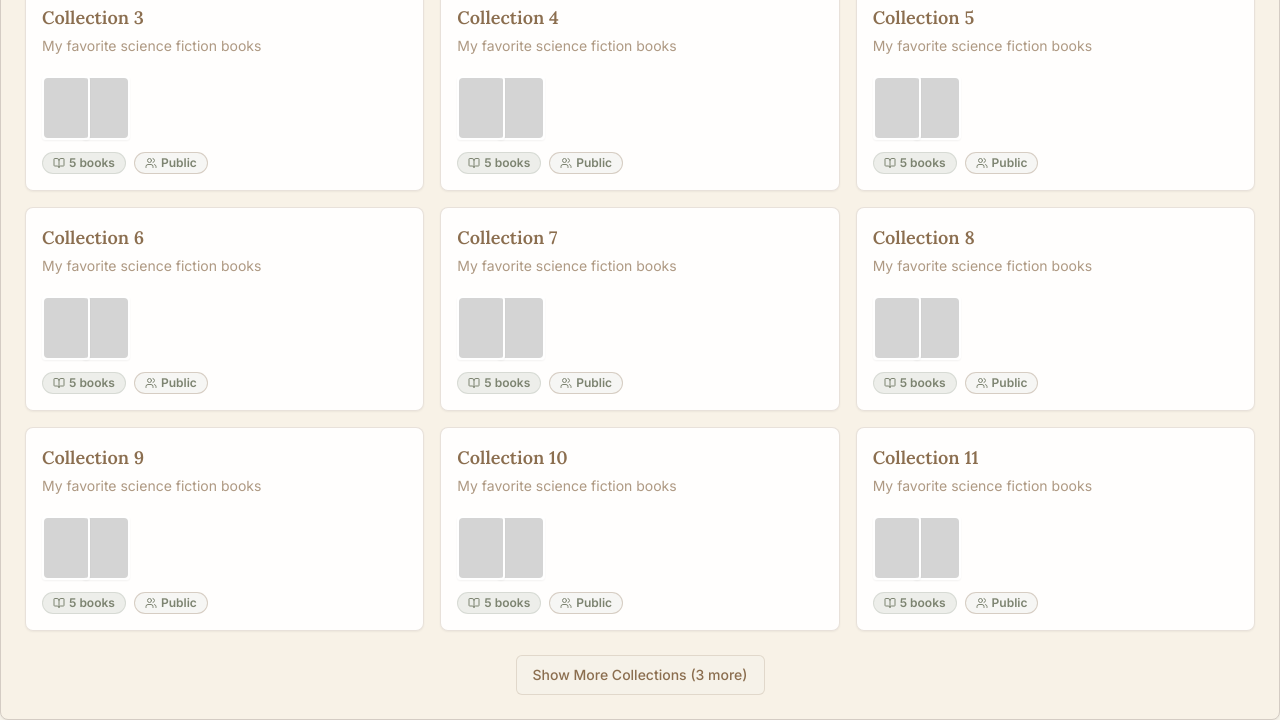
Test: ProfileCollectionsSection › Pagination › should collapse to show initial limit when "Show Less" is clicked
(page scrolled)
Click the button "Show More Collections (3 more)": (640,675) [516,655,764,695]
(page scrolled)
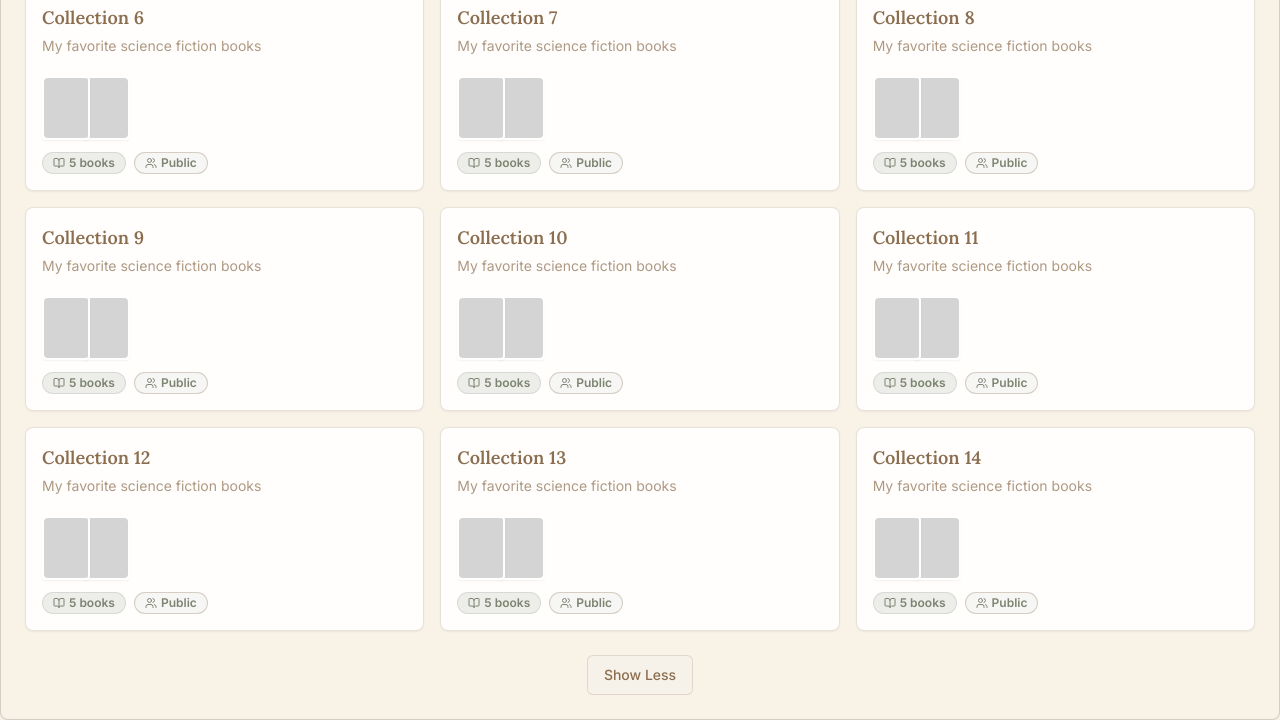
Click the button "Show Less": (640,675) [587,655,693,695]
(page scrolled)
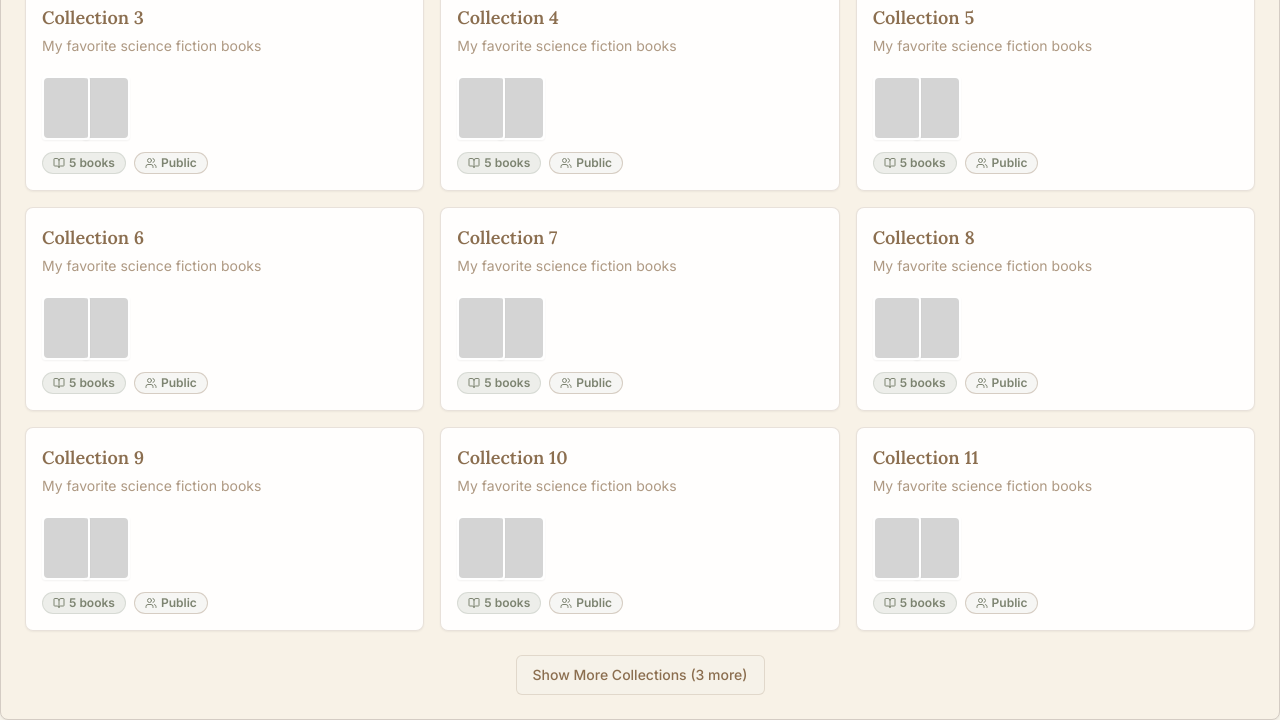
Expected: the button "Show More Collections (3 more)" is shown, [516,655,764,695]
Expected: the button "Show Less" is gone
